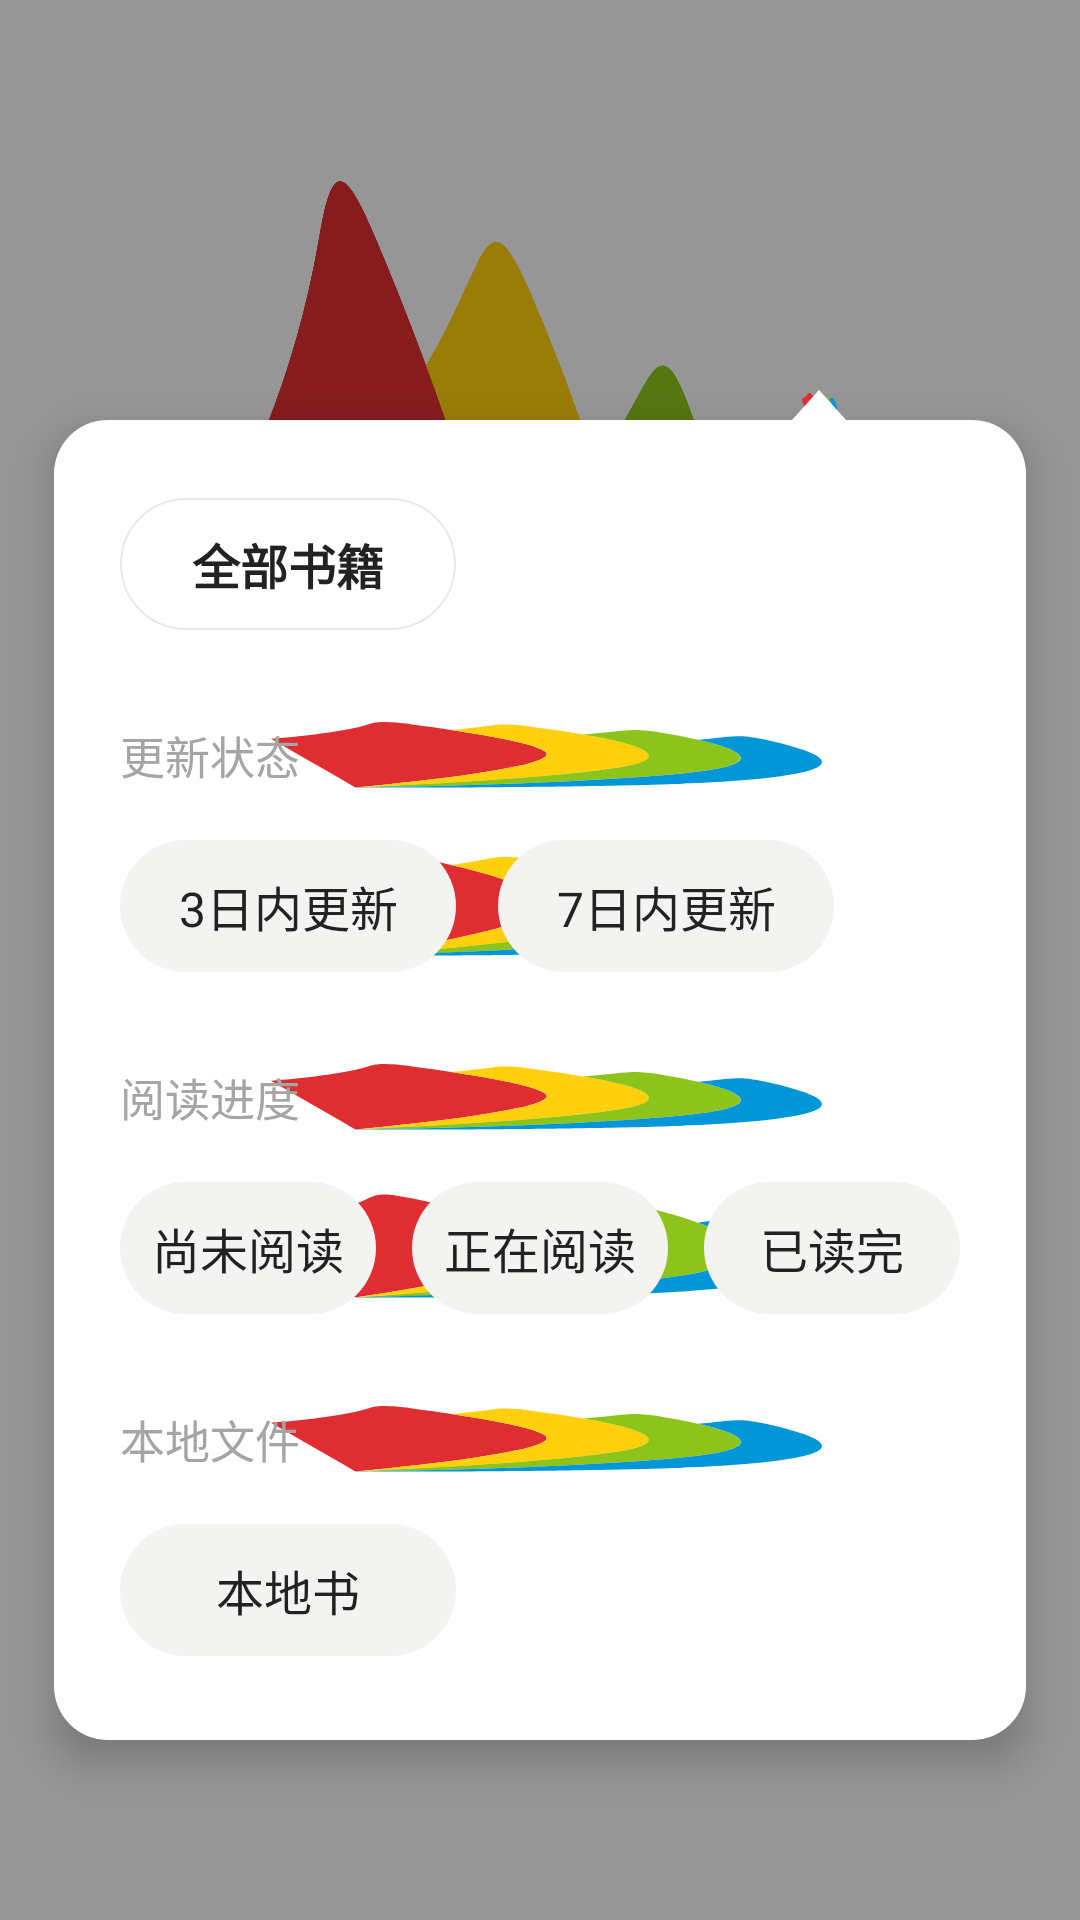

Screen size 1080px x 1920px. Icon name, then its center in pixels as (x=x, y=y):
bookshelf filter arrow: (x=819, y=405)
